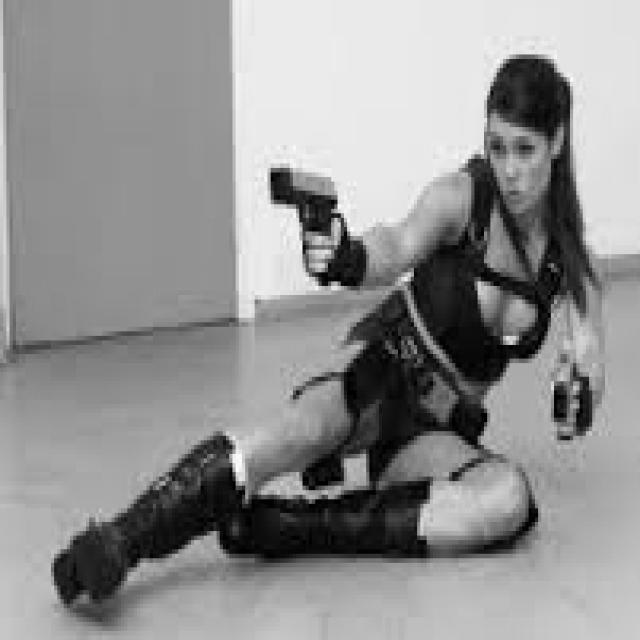gun: (270, 163, 337, 288), (546, 373, 590, 448)
